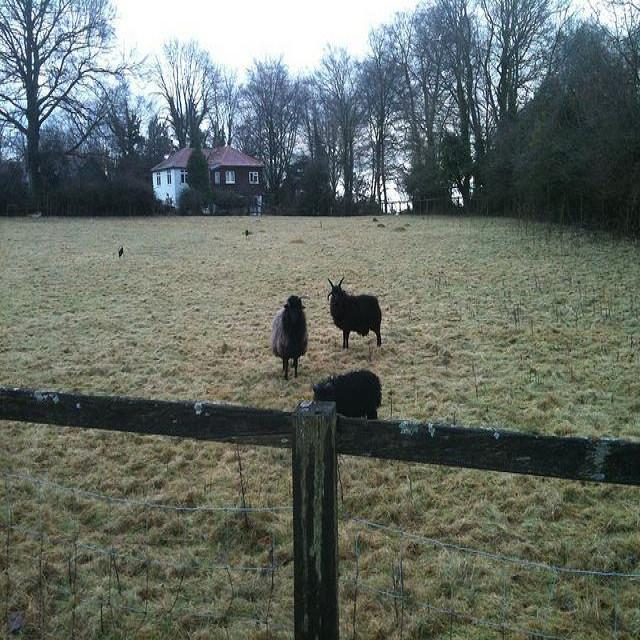Sheep: (325, 274, 381, 349), (311, 369, 385, 423), (268, 295, 309, 380)
